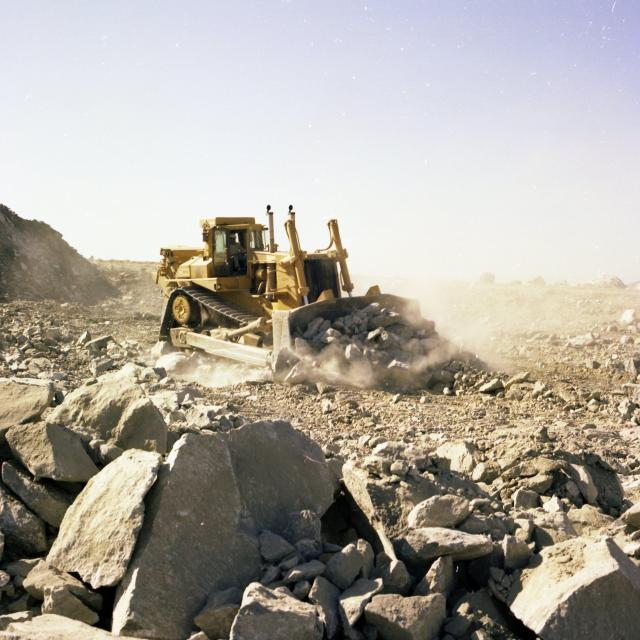Bulldozer: (148, 194, 450, 412)
